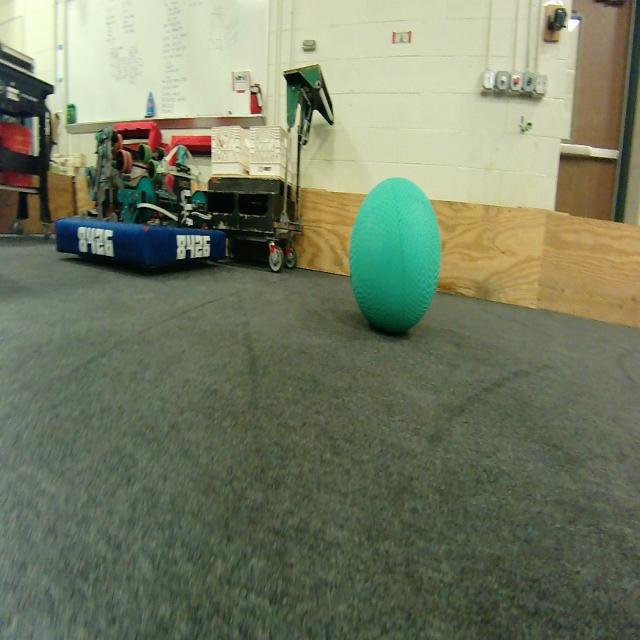algae: (342, 170, 446, 344)
